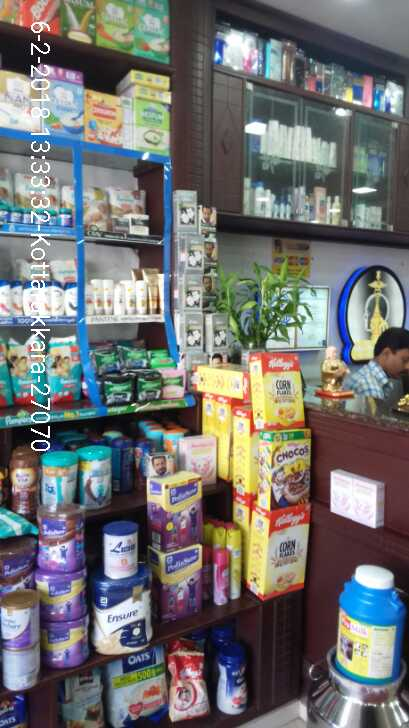vicks: (1, 200, 75, 227)
